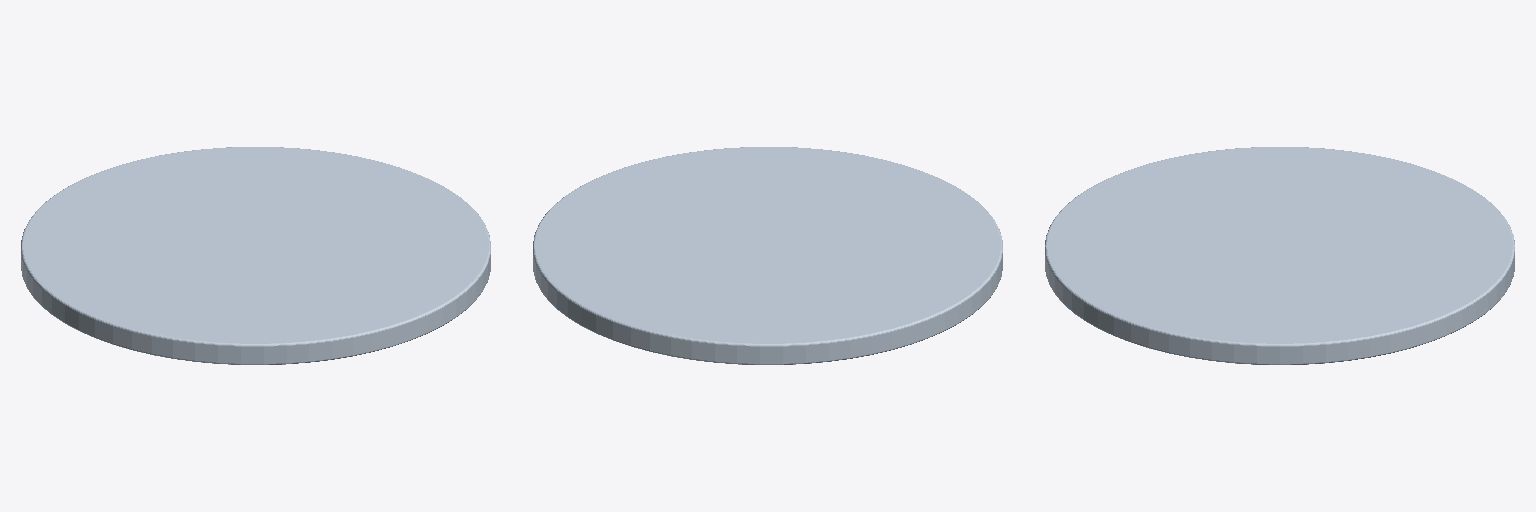
The model's file is coin.obj.
3 views of the same model, side by side, from view 1: azimuth 30°, elevation 25°; view 2: azimuth 150°, elevation 25°; view 3: azimuth 270°, elevation 25° (orthographic).
Parts seen in each view (by area): view 1: Coin; view 2: Coin; view 3: Coin.
Part boxes in pixels (x1,y1,x2,y2): Coin: (21, 147, 490, 364); Coin: (533, 147, 1002, 364); Coin: (1045, 147, 1514, 364).
Size of the model in its own units: 2 by 0.1 by 2.